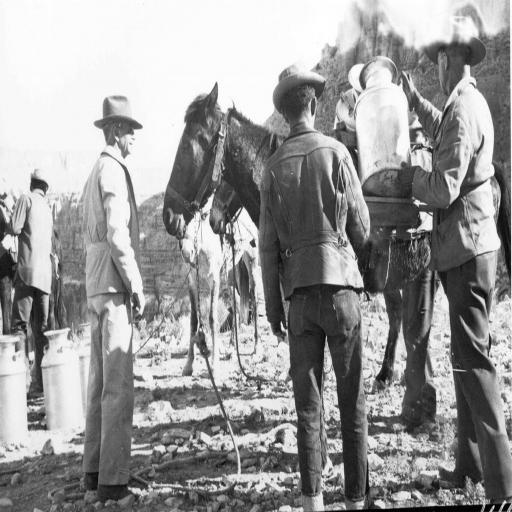horse: (163, 82, 512, 476), (208, 175, 404, 395), (183, 186, 265, 381), (0, 194, 67, 326)
